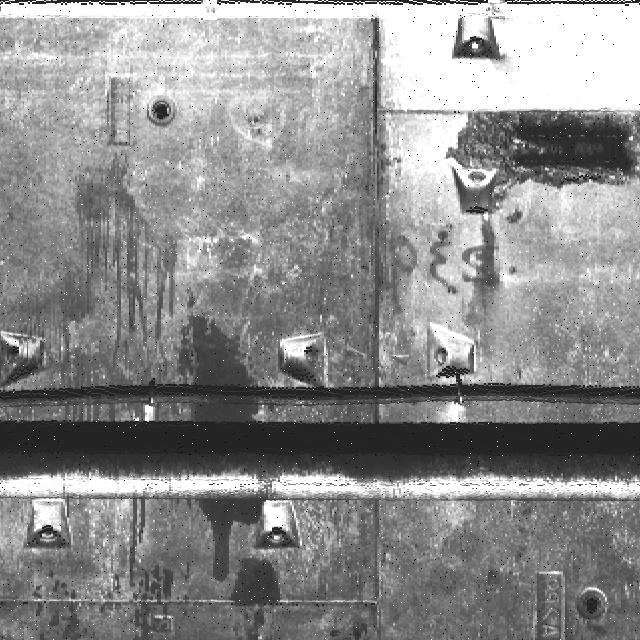leakage: (42, 152, 177, 423), (437, 88, 640, 214), (170, 305, 272, 426), (196, 482, 273, 580), (228, 555, 287, 612), (120, 492, 154, 590)
